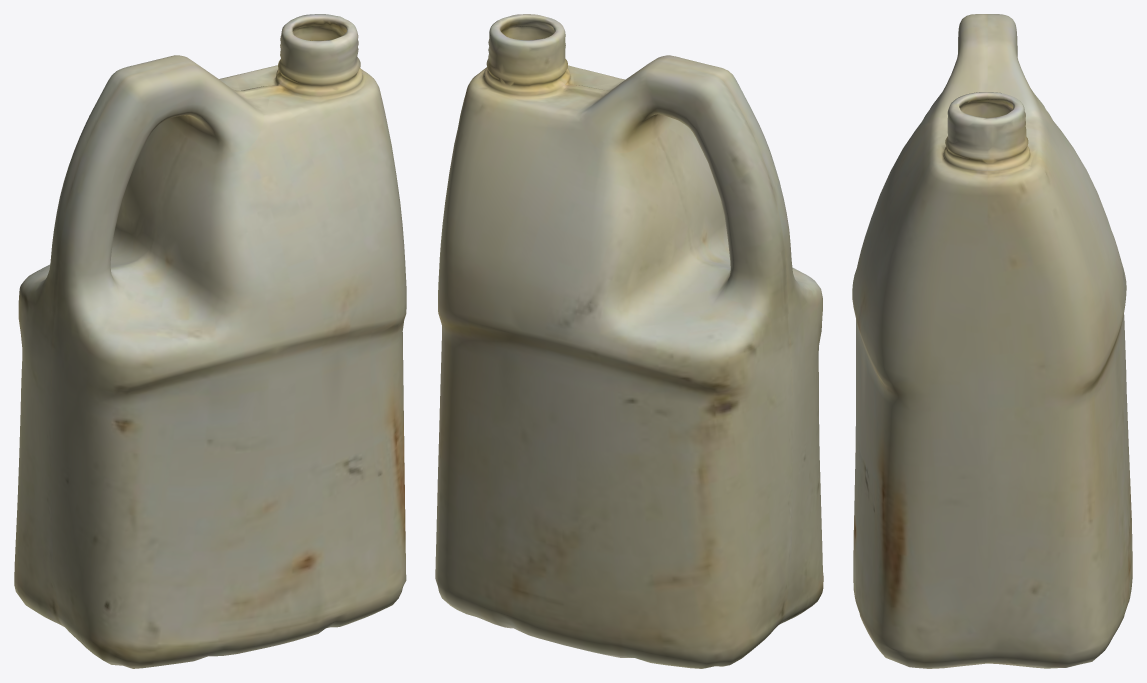
The model's file is water_container.glb.
3 views of the same model, side by side, from view 1: azimuth 30°, elevation 25°; view 2: azimuth 150°, elevation 25°; view 3: azimuth 270°, elevation 25° (orthographic).
Parts seen in each view (by area): view 1: plastic_bottle_gallon; view 2: plastic_bottle_gallon; view 3: plastic_bottle_gallon.
Boxes of the visible parts, <box> form: plastic_bottle_gallon: <box>14,14,406,668</box>; plastic_bottle_gallon: <box>435,14,823,668</box>; plastic_bottle_gallon: <box>852,14,1132,668</box>.
Size of the model in its own units: 0.1663 by 0.2745 by 0.1264.
1 material, 1 textured.
